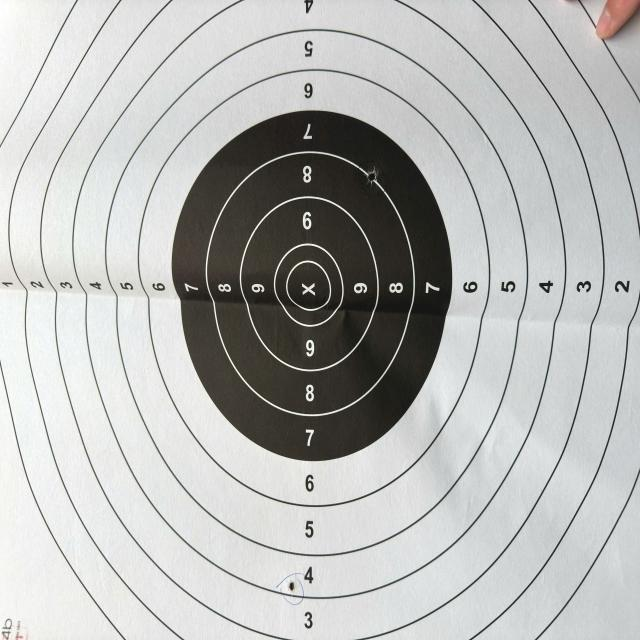bullet: (364, 168, 379, 184), (288, 585, 296, 591)
